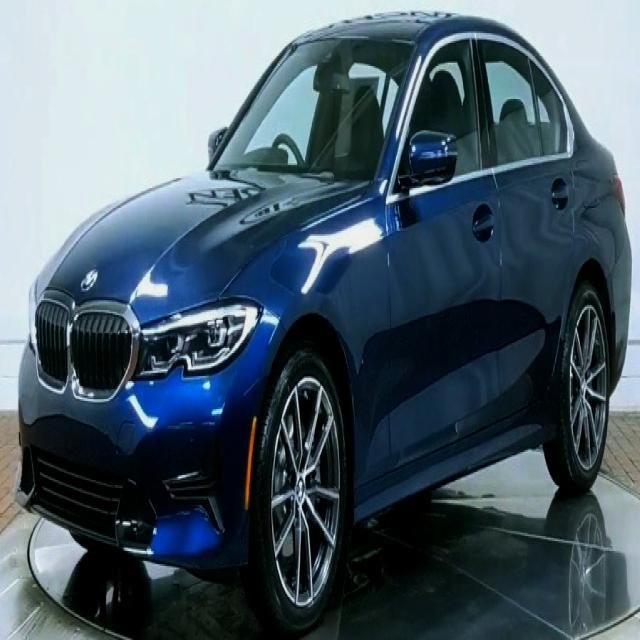blue: (15, 9, 632, 620)
